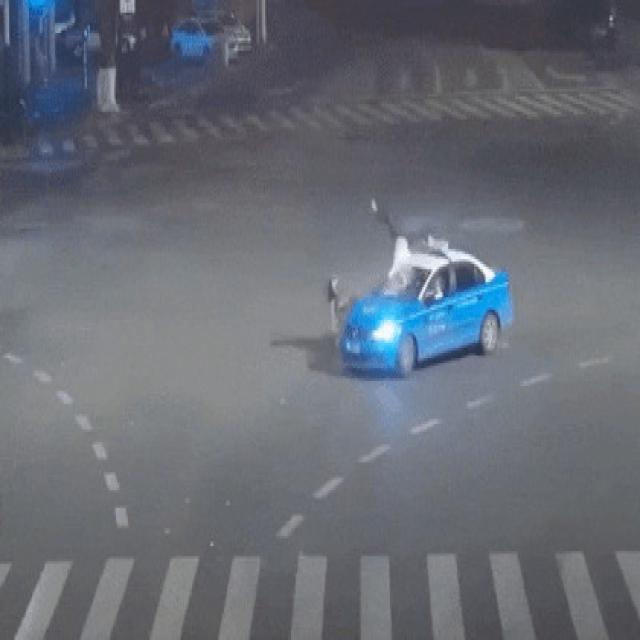multiple_accident: (315, 197, 521, 384)
